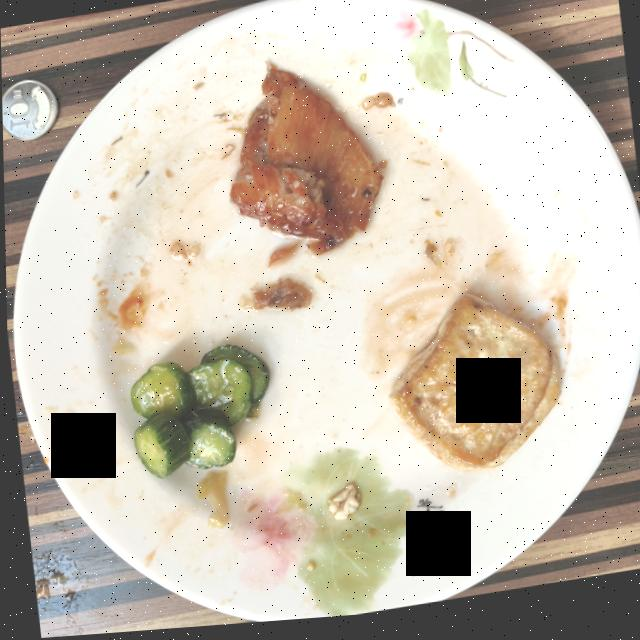Kabayaki sea bream fillet: (229, 66, 381, 259)
coin: (2, 79, 57, 139)
cucumber: (128, 347, 267, 479)
